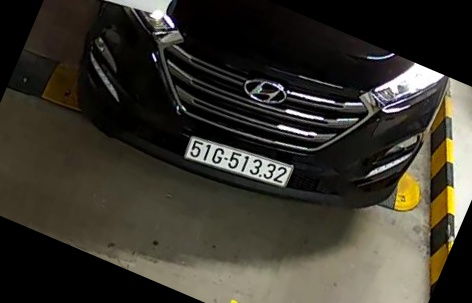plate: (183, 130, 291, 196)
